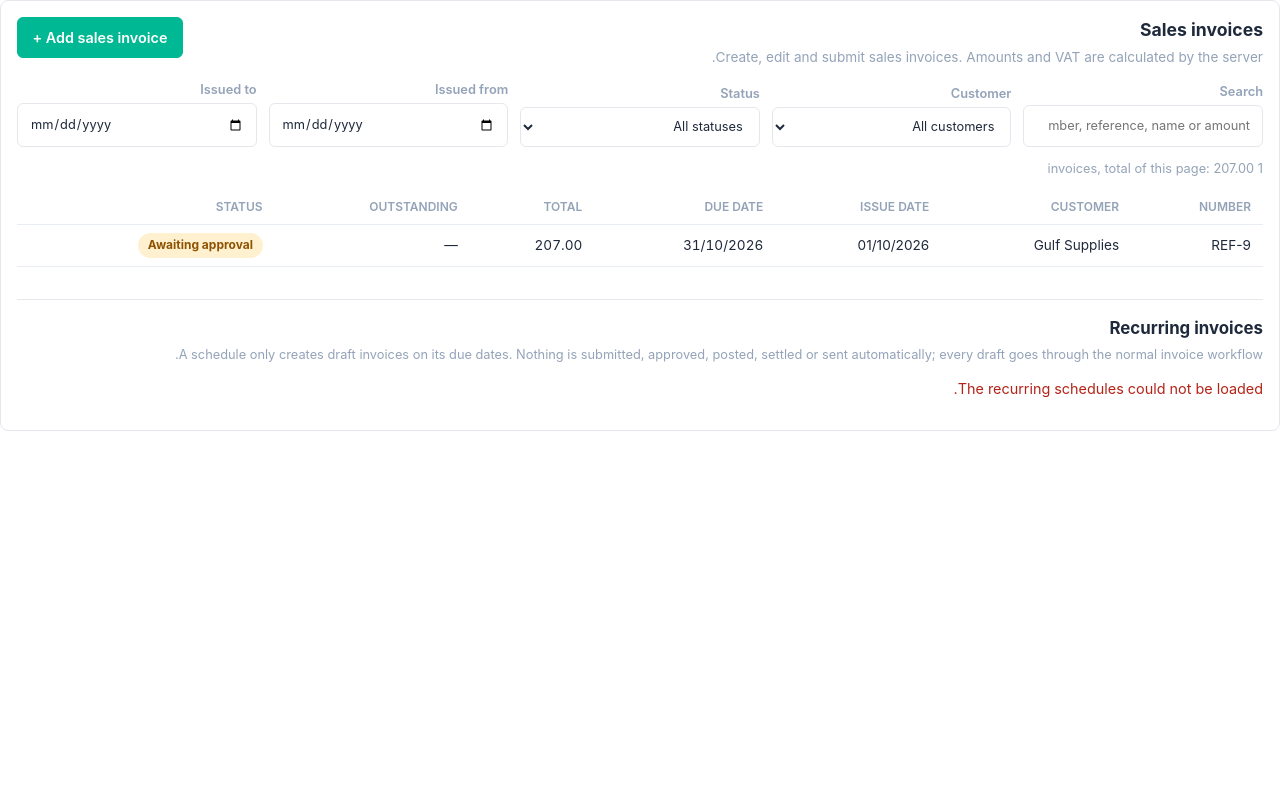
Test: Invoice details actions › moves focus into the cancellation step and keeps the reason requirement
Click the text "REF-9" at coordinates (1197, 245), box [1131, 225, 1263, 266]
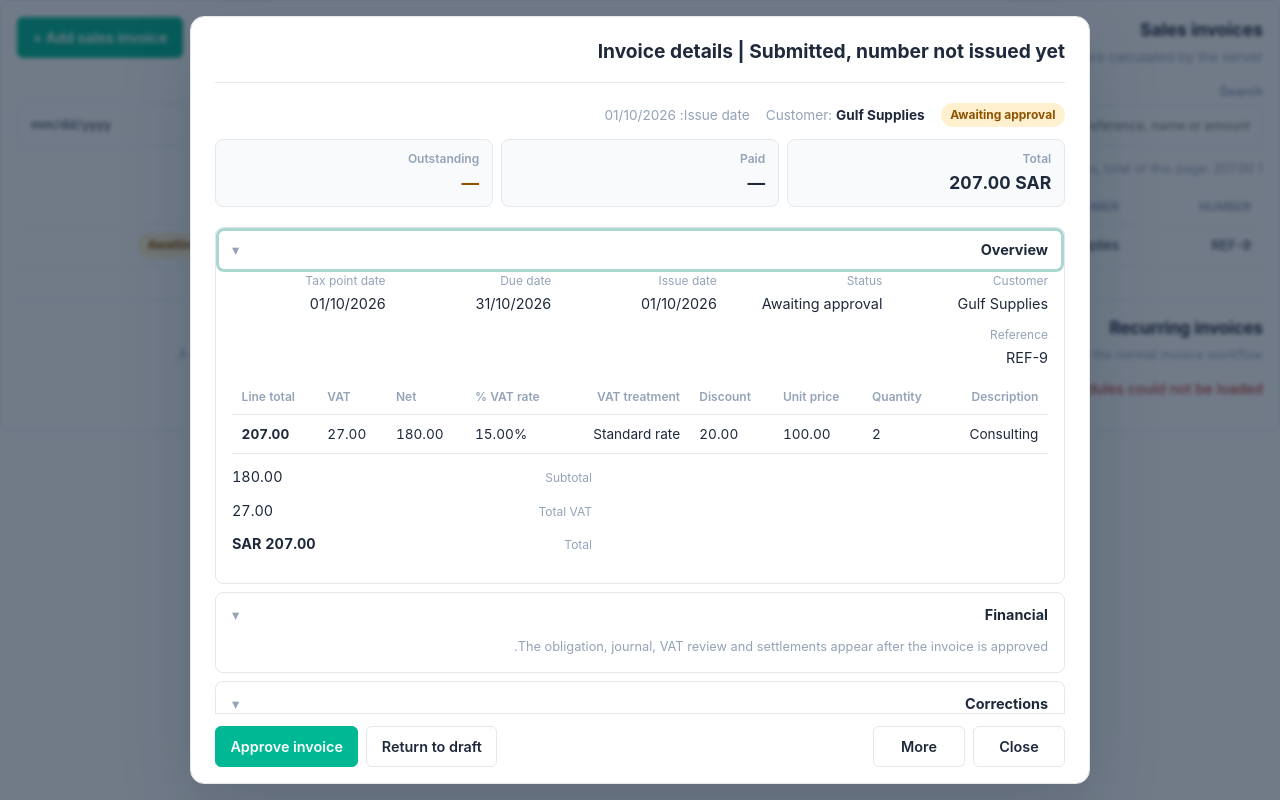
Click the button "More" at coordinates (919, 746), box [873, 726, 965, 767]
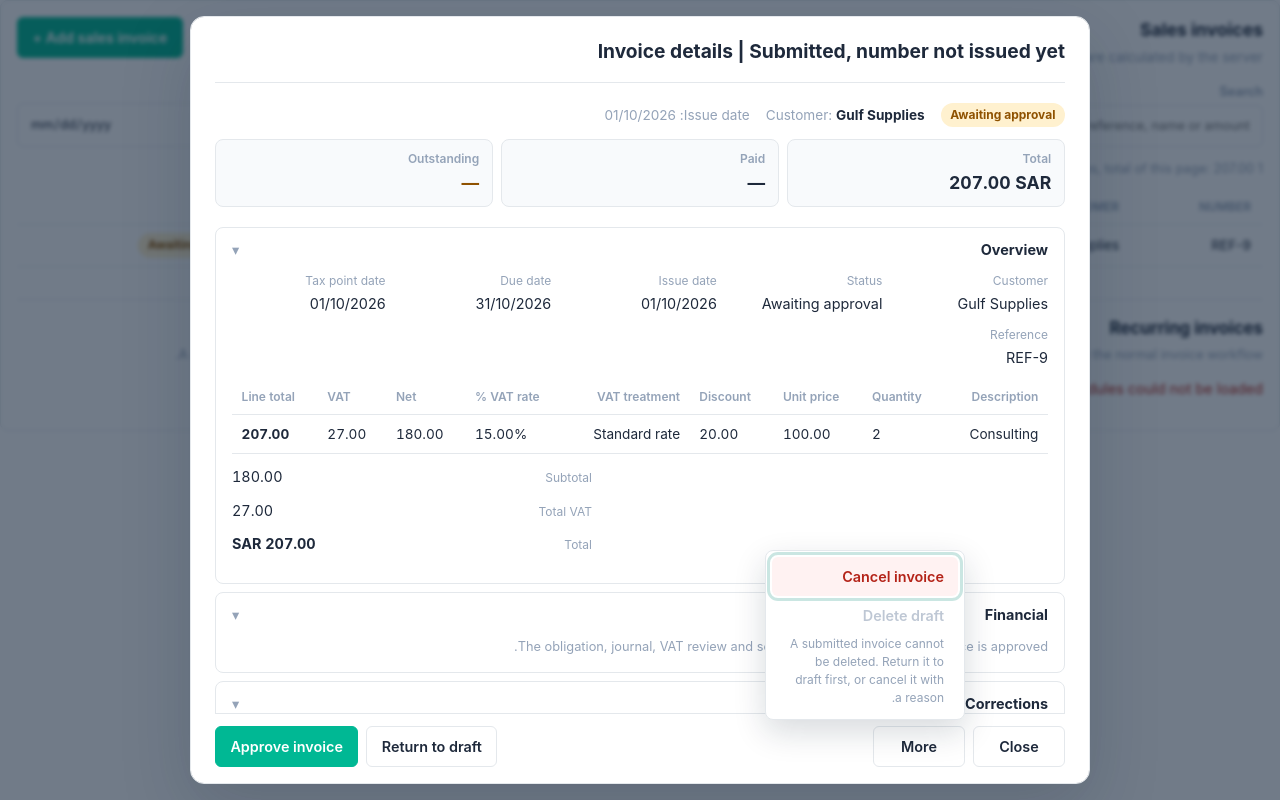
Click the menu item "Cancel invoice" at coordinates (865, 576), box [772, 556, 958, 596]
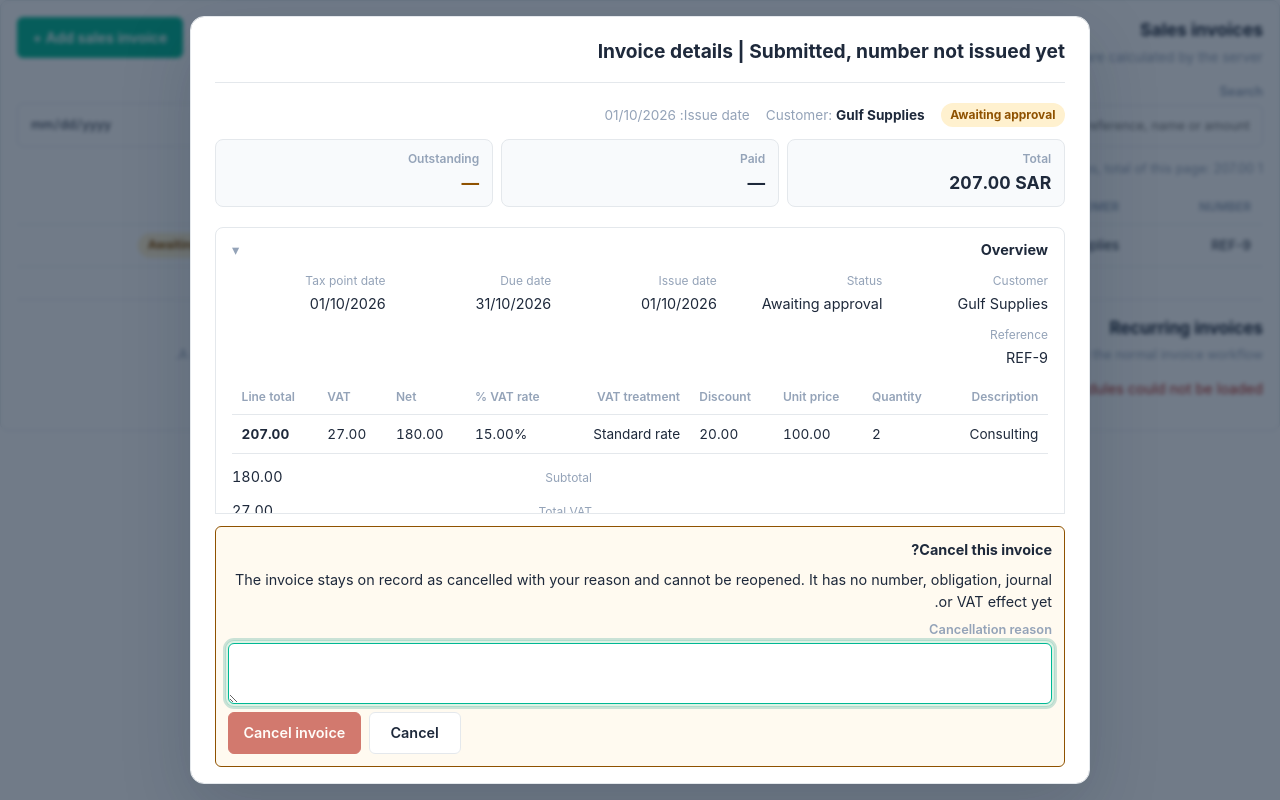
Expected: the button "Cancel invoice" is disabled, [228, 713, 361, 754]
